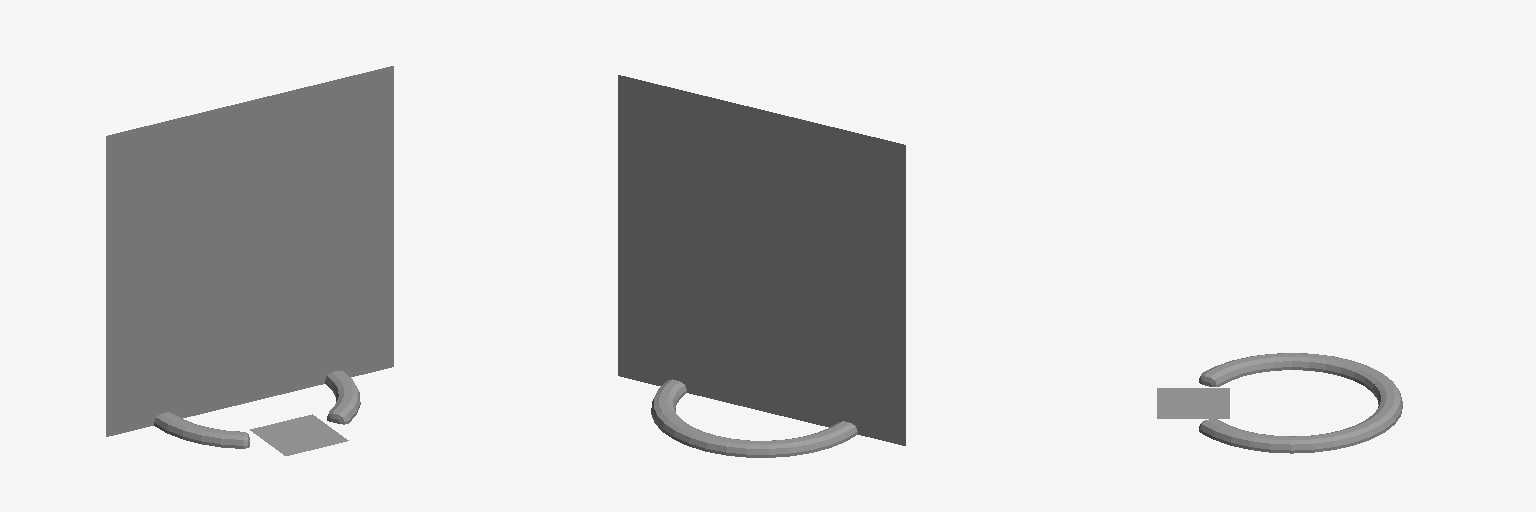
Rendered from NOBASE.obj.
3 renders of one model, left to right at view 1: azimuth 30°, elevation 25°; view 2: azimuth 150°, elevation 25°; view 3: azimuth 270°, elevation 25°, orthographic.
Visible parts, largest first — view 1: 0FRONT_Plane.002, 1BACK_Plane.004, 0BASE_Cylinder.006, 0BASE_ICON_Cylinder.005; view 2: 1BACK_Plane.004, 0FRONT_Plane.002, 0BASE_Cylinder.006; view 3: 0BASE_Cylinder.006, 0BASE_ICON_Cylinder.005.
Boxes of the visible parts, x1=… form: 0FRONT_Plane.002: x1=107, y1=66, x2=393, y2=404; 1BACK_Plane.004: x1=106, y1=126, x2=277, y2=436; 0BASE_Cylinder.006: x1=154, y1=370, x2=360, y2=448; 0BASE_ICON_Cylinder.005: x1=250, y1=414, x2=348, y2=455; 1BACK_Plane.004: x1=618, y1=75, x2=905, y2=412; 0FRONT_Plane.002: x1=744, y1=135, x2=905, y2=445; 0BASE_Cylinder.006: x1=651, y1=379, x2=857, y2=457; 0BASE_Cylinder.006: x1=1199, y1=353, x2=1402, y2=453; 0BASE_ICON_Cylinder.005: x1=1157, y1=388, x2=1229, y2=418.
Bounding box in the file's own units: 3 × 3 × 2.22.